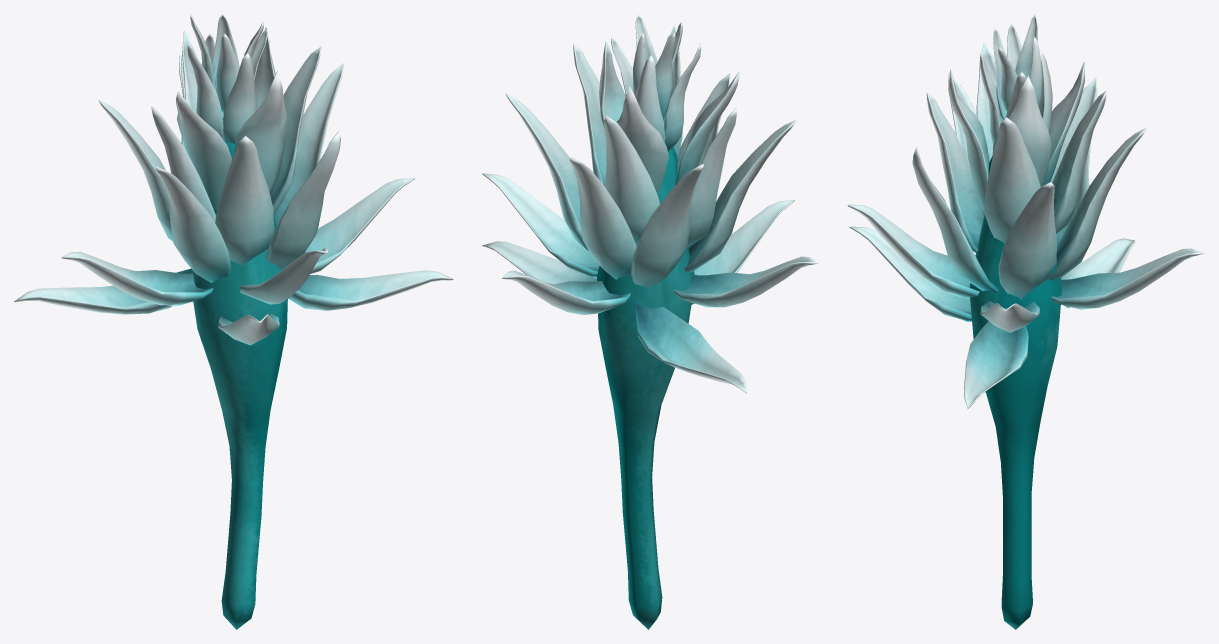
Rendered from Cartoon Seaweed_13-2-12.fbx.
3 views of the same model, side by side, from view 1: azimuth 30°, elevation 25°; view 2: azimuth 150°, elevation 25°; view 3: azimuth 270°, elevation 25° (orthographic). The views are drawn at different scales.
Parts seen in each view (by area): view 1: Cartoon Seaweed_13.2.12; view 2: Cartoon Seaweed_13.2.12; view 3: Cartoon Seaweed_13.2.12.
Boxes of the visible parts, x1,y1,x2,y2 form: Cartoon Seaweed_13.2.12: (14, 14, 453, 629); Cartoon Seaweed_13.2.12: (482, 14, 818, 629); Cartoon Seaweed_13.2.12: (847, 14, 1204, 629).
Size of the model in its own units: 23.52 by 37.96 by 20.5.
1 material, 1 textured.
